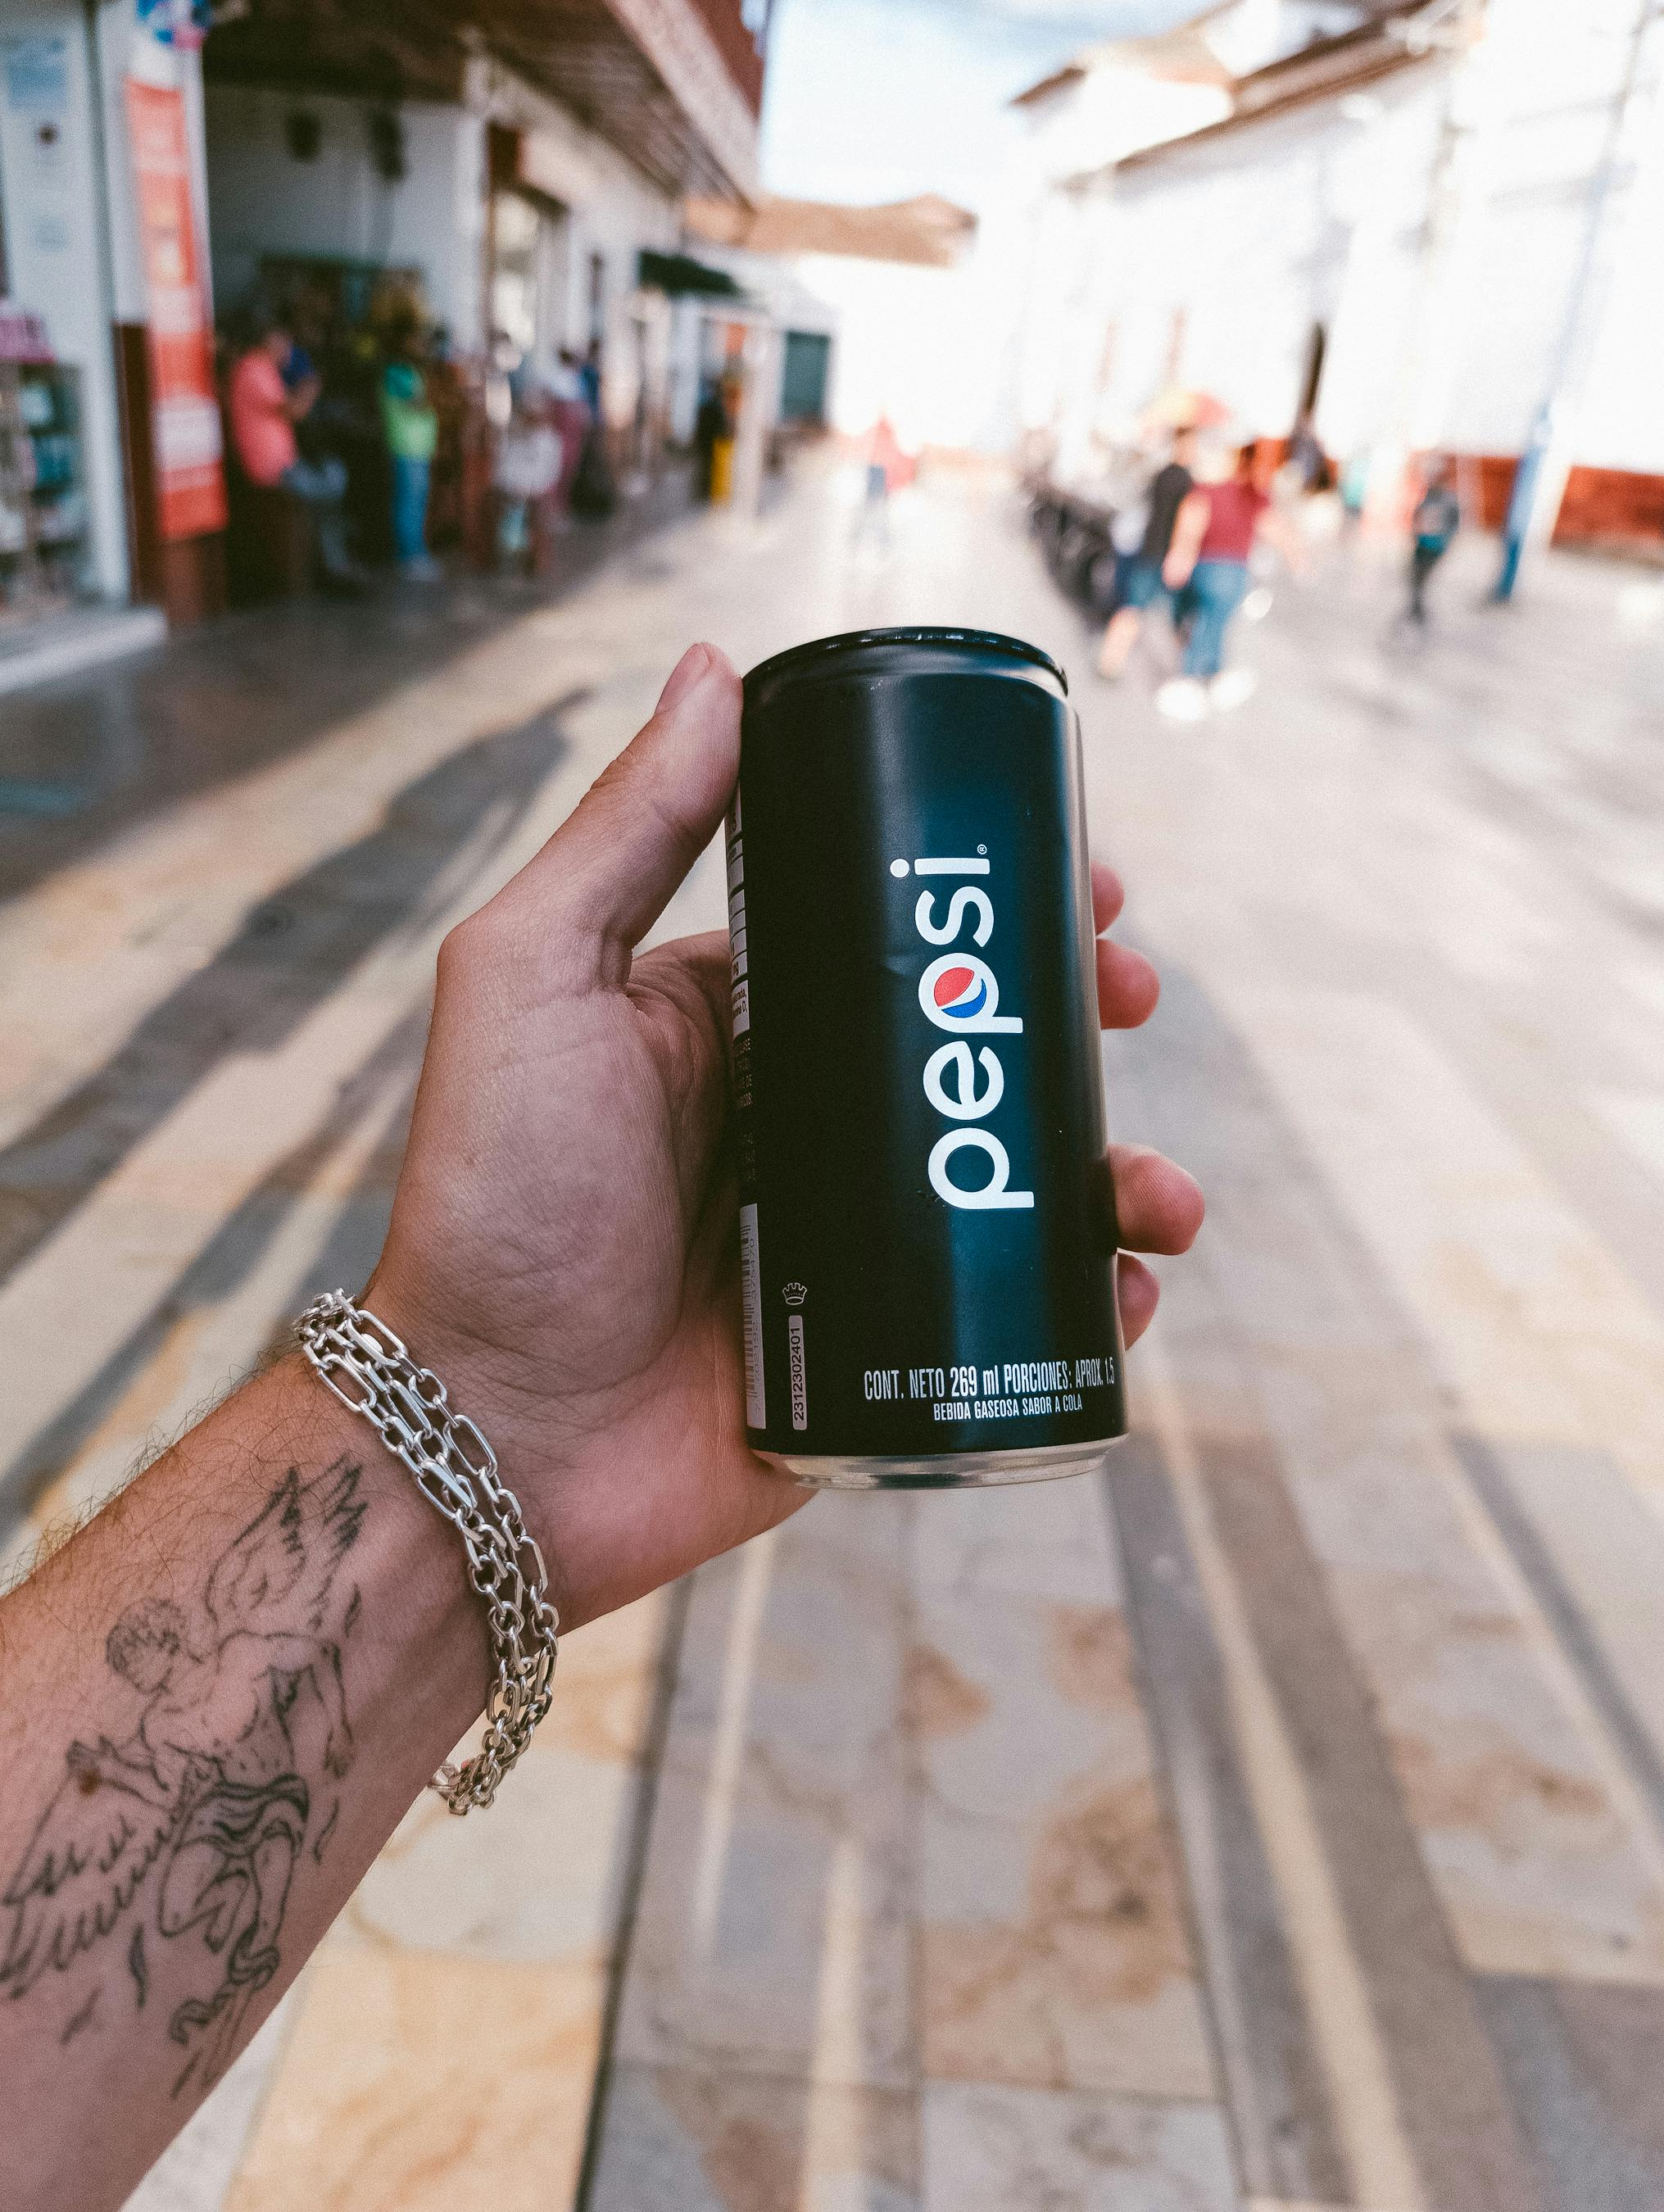PEPSI: (728, 624, 1113, 1447)
